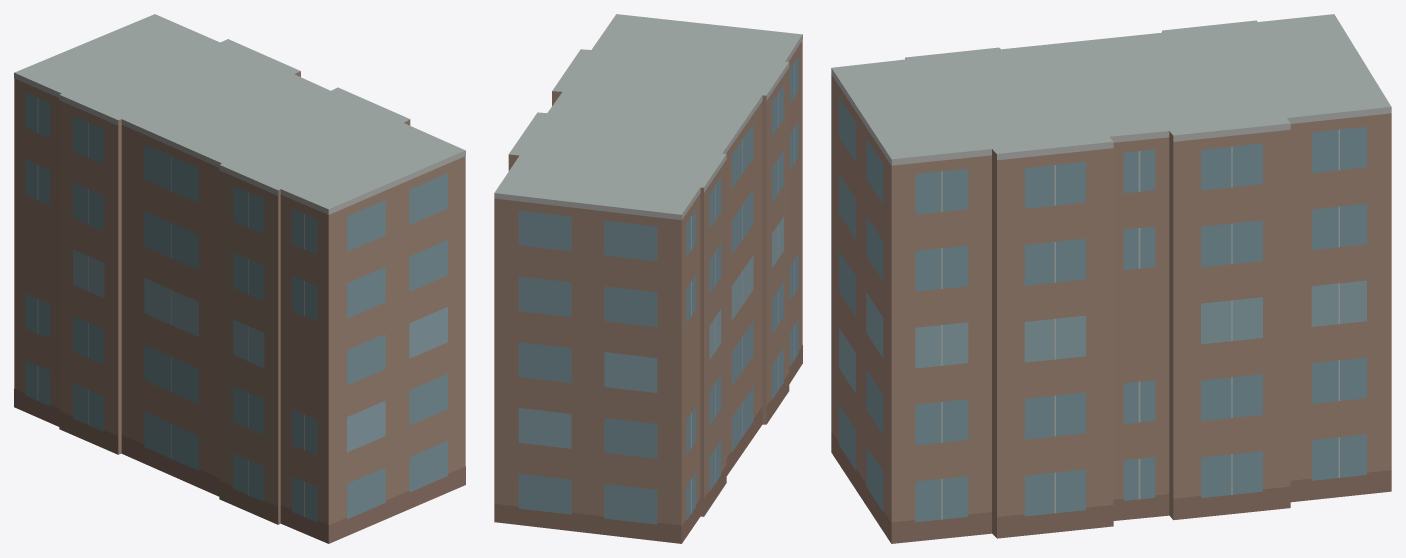
File: survey-upis-32805503.glb
3 views of the same model, side by side, from view 1: azimuth 30°, elevation 25°; view 2: azimuth 150°, elevation 25°; view 3: azimuth 270°, elevation 25° (orthographic). The views are drawn at different scales.
Parts seen in each view (by area): view 1: survey-upis-32805503.tmp; view 2: survey-upis-32805503.tmp; view 3: survey-upis-32805503.tmp.
Part boxes in pixels (left/top/right/bottom): survey-upis-32805503.tmp: left=14, top=14, right=465, bottom=543; survey-upis-32805503.tmp: left=494, top=14, right=802, bottom=543; survey-upis-32805503.tmp: left=831, top=14, right=1391, bottom=543.
Size of the model in its own units: 12.01 by 14.8 by 19.55.
